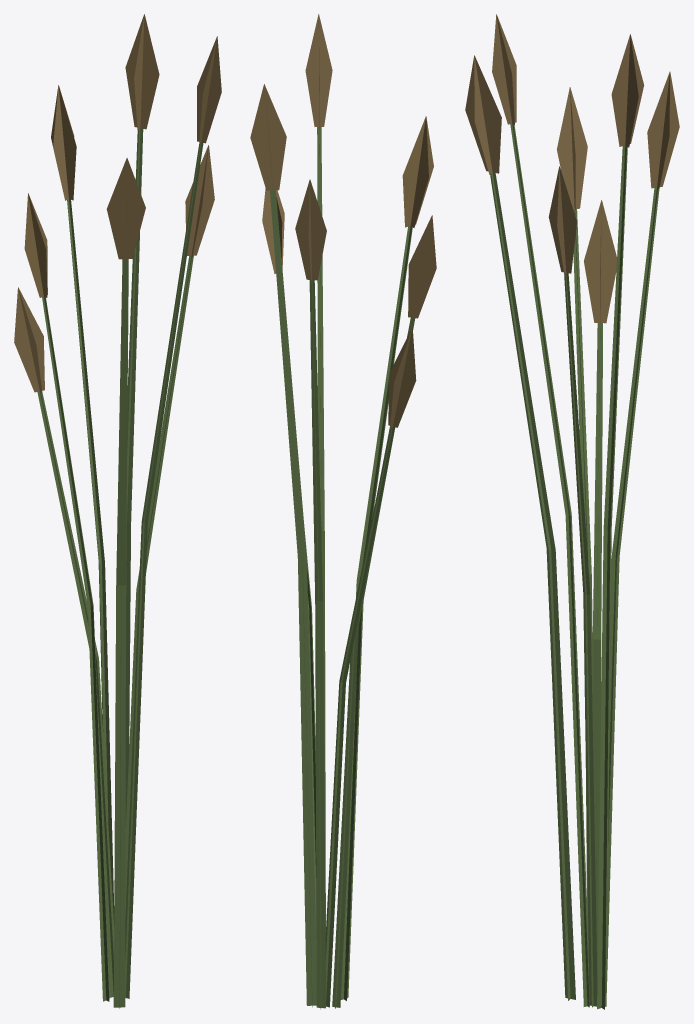
File: reed_tall.glb
3 renders of one model, left to right at view 1: azimuth 30°, elevation 25°; view 2: azimuth 150°, elevation 25°; view 3: azimuth 270°, elevation 25°, orthographic. The views are drawn at different scales.
Parts seen in each view (by area): view 1: reed_tall; view 2: reed_tall; view 3: reed_tall.
Boxes of the visible parts, bbox=[...] form: reed_tall: bbox=[14, 14, 221, 1008]; reed_tall: bbox=[250, 14, 436, 1009]; reed_tall: bbox=[465, 14, 679, 1009].
Bounding box in the file's own units: 0.4173 × 2.12 × 0.4064.
